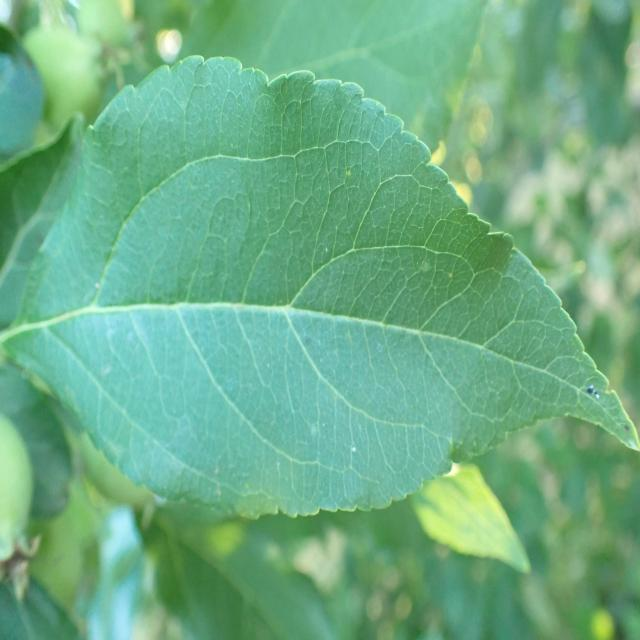healthy: (2, 54, 640, 519), (180, 1, 488, 158)
